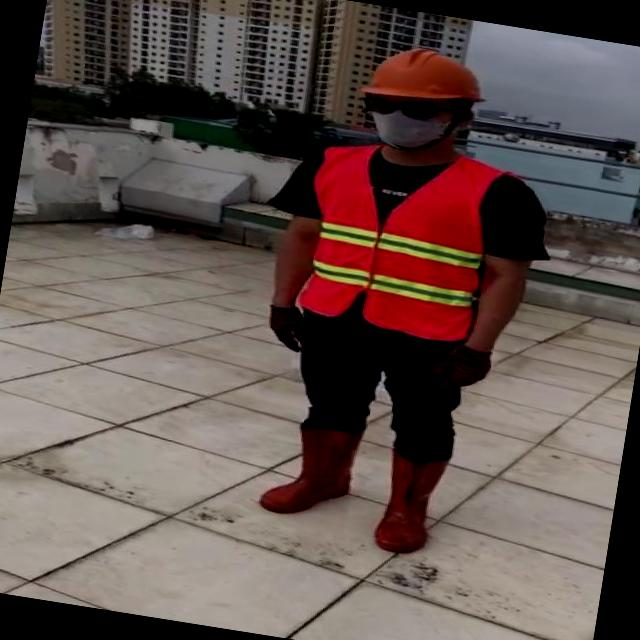boots: (259, 419, 361, 524), (372, 447, 446, 558)
gloves: (416, 318, 504, 406), (254, 288, 326, 364)
helmet: (354, 36, 496, 116)
vest: (297, 140, 499, 347)
